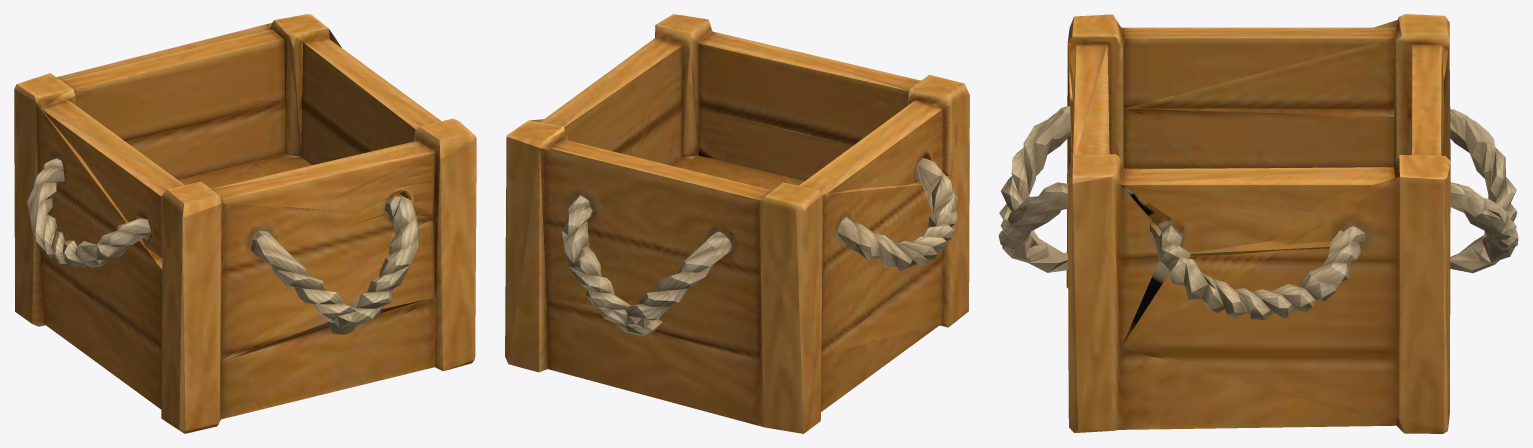
The model's file is crate.glb.
The picture shows the model from 3 angles, left to right: view 1: azimuth 30°, elevation 25°; view 2: azimuth 150°, elevation 25°; view 3: azimuth 270°, elevation 25°; orthographic projection. The views are drawn at different scales.
Visible parts, largest first — view 1: output_unwrapped; view 2: output_unwrapped; view 3: output_unwrapped.
Part boxes in pixels (x1,y1,x2,y2): output_unwrapped: (14, 14, 476, 433); output_unwrapped: (505, 14, 969, 433); output_unwrapped: (998, 14, 1518, 433).
Size of the model in its own units: 1.88 by 1.05 by 1.89.
1 material, 1 textured.
